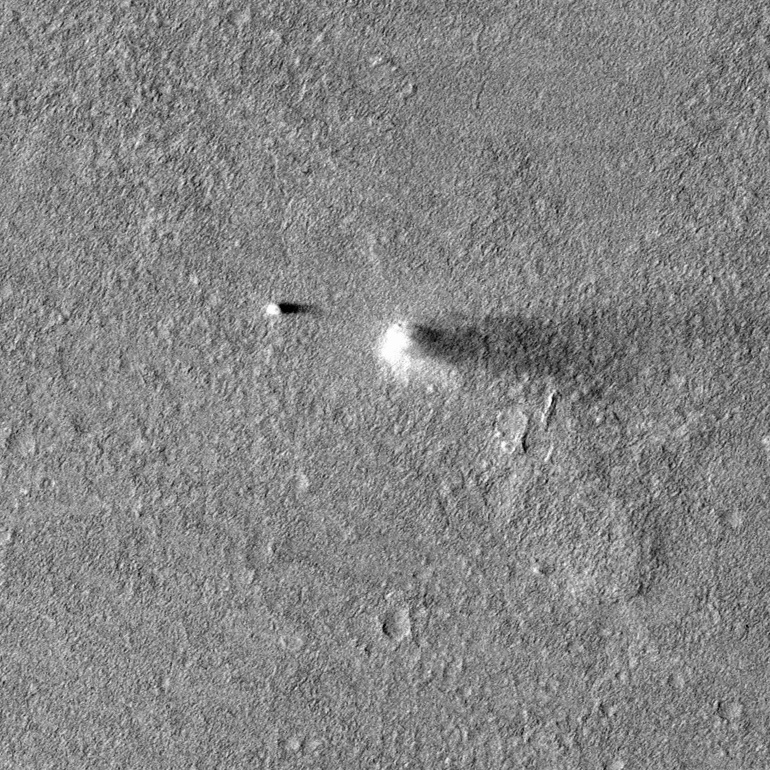dust_devil: (375, 309, 606, 402), (264, 301, 323, 316)
